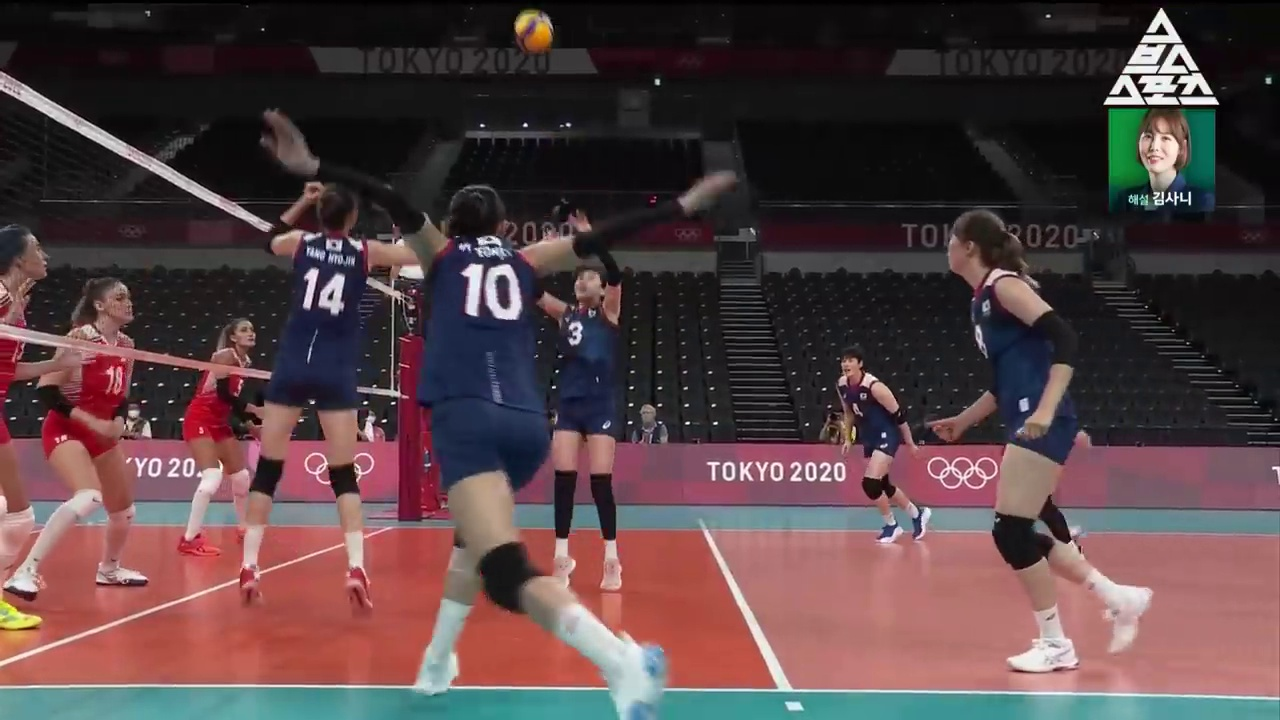ball: (516, 11, 553, 54)
player: (262, 108, 737, 720), (928, 209, 1153, 671), (242, 183, 433, 616), (523, 212, 621, 590), (837, 347, 931, 543)
player 1: (6, 278, 148, 599), (0, 224, 98, 630), (178, 318, 277, 557)
